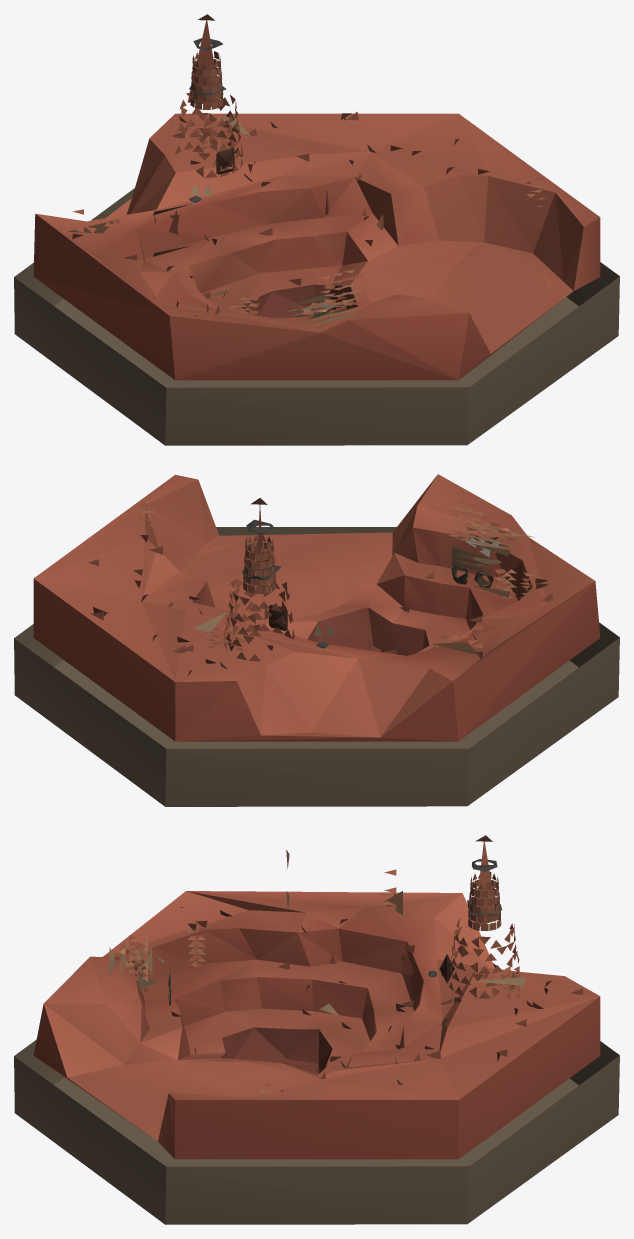
File: tile_clay_lod1.glb
3 renders of one model, top to bottom at view 1: azimuth 30°, elevation 25°; view 2: azimuth 150°, elevation 25°; view 3: azimuth 270°, elevation 25°, orthographic.
Parts seen in each view (by area): view 1: tile_clay_LOD1; view 2: tile_clay_LOD1; view 3: tile_clay_LOD1.
Boxes of the visible parts, bbox=[...] form: tile_clay_LOD1: bbox=[14, 14, 619, 445]; tile_clay_LOD1: bbox=[14, 474, 619, 806]; tile_clay_LOD1: bbox=[14, 835, 619, 1224].
Size of the model in its own units: 1.73 by 0.9523 by 1.99.
